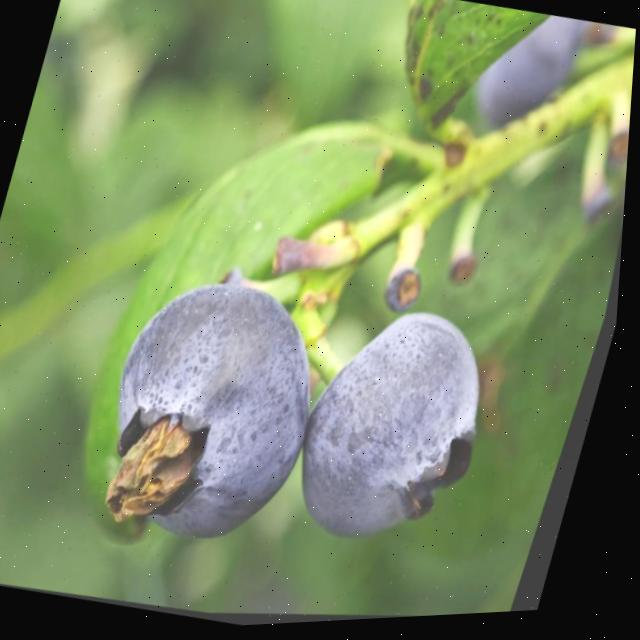RipeBlueBerry: (79, 244, 372, 578), (269, 281, 534, 579)
